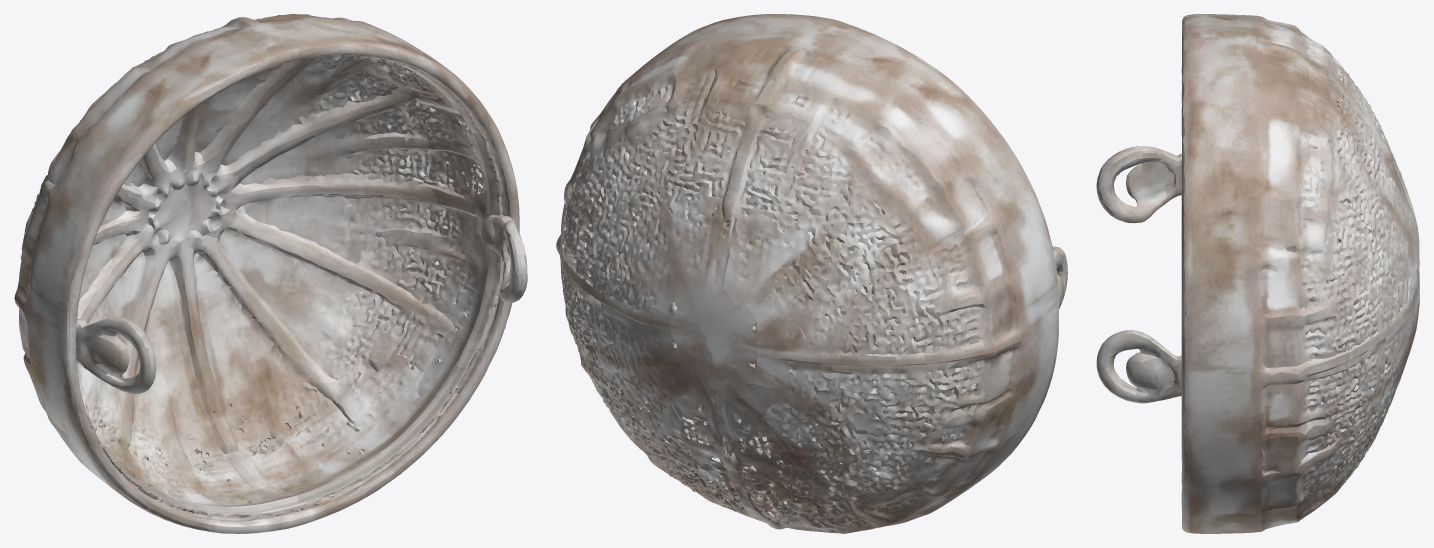
Rendered from task-4891347.glb.
3 renders of one model, left to right at view 1: azimuth 30°, elevation 25°; view 2: azimuth 150°, elevation 25°; view 3: azimuth 270°, elevation 25°, orthographic. The views are drawn at different scales.
Visible parts, largest first — view 1: world; view 2: world; view 3: world.
Boxes of the visible parts, <box> form: world: <box>14,14,527,533</box>; world: <box>556,14,1067,533</box>; world: <box>1096,14,1419,533</box>.
Size of the model in its own units: 0.00012 by 0.00012 by 7.52e-05.
Materials: 1 (1 with a texture image).
